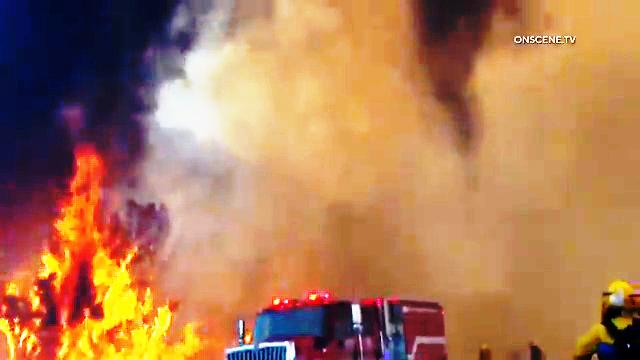fire: (0, 146, 218, 360)
smoke: (2, 0, 503, 143)
